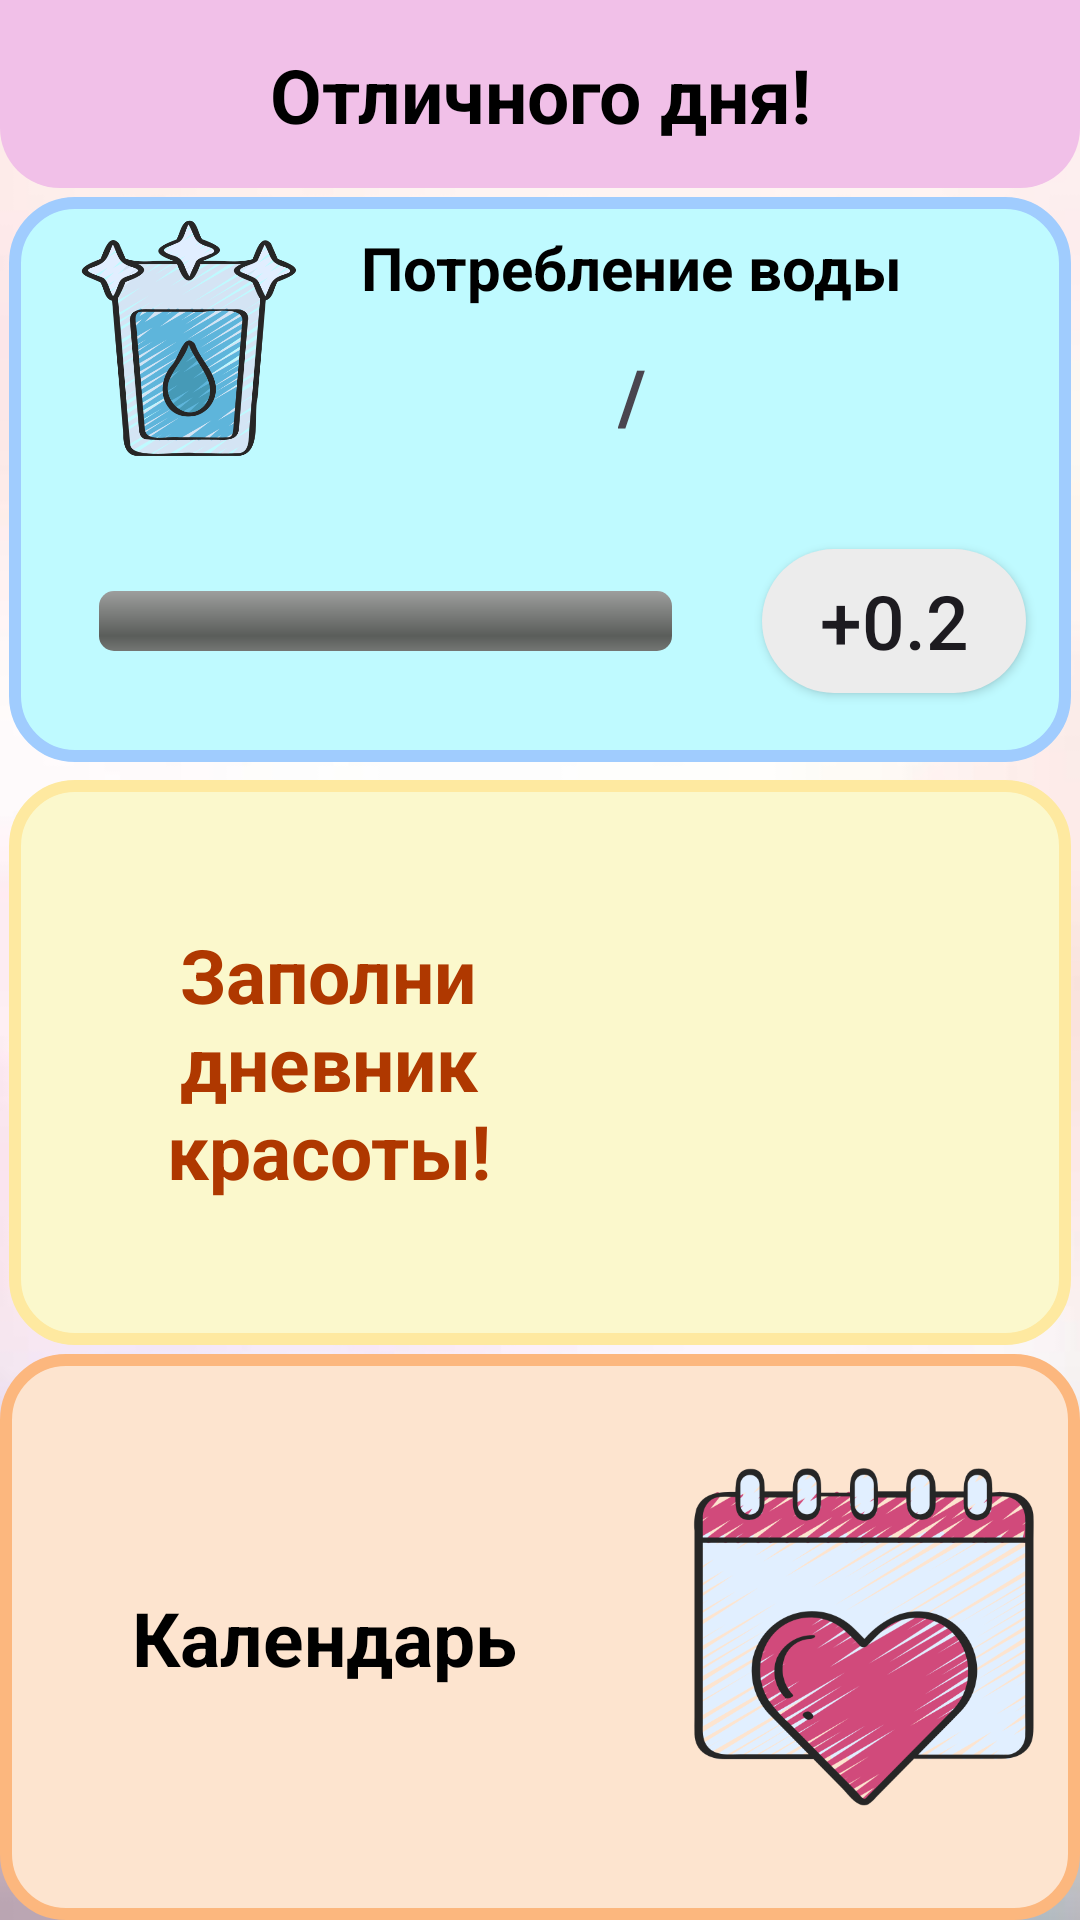

Icon click points for this 1080px×1920px phone screenshot, format point (x, y):
water: point (189, 338)
Календарь: point (864, 1637)
